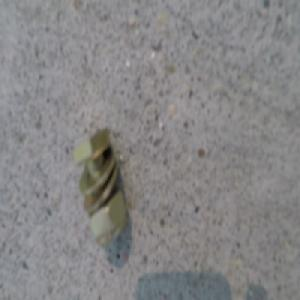BoltNutSet: (68, 125, 123, 238)
